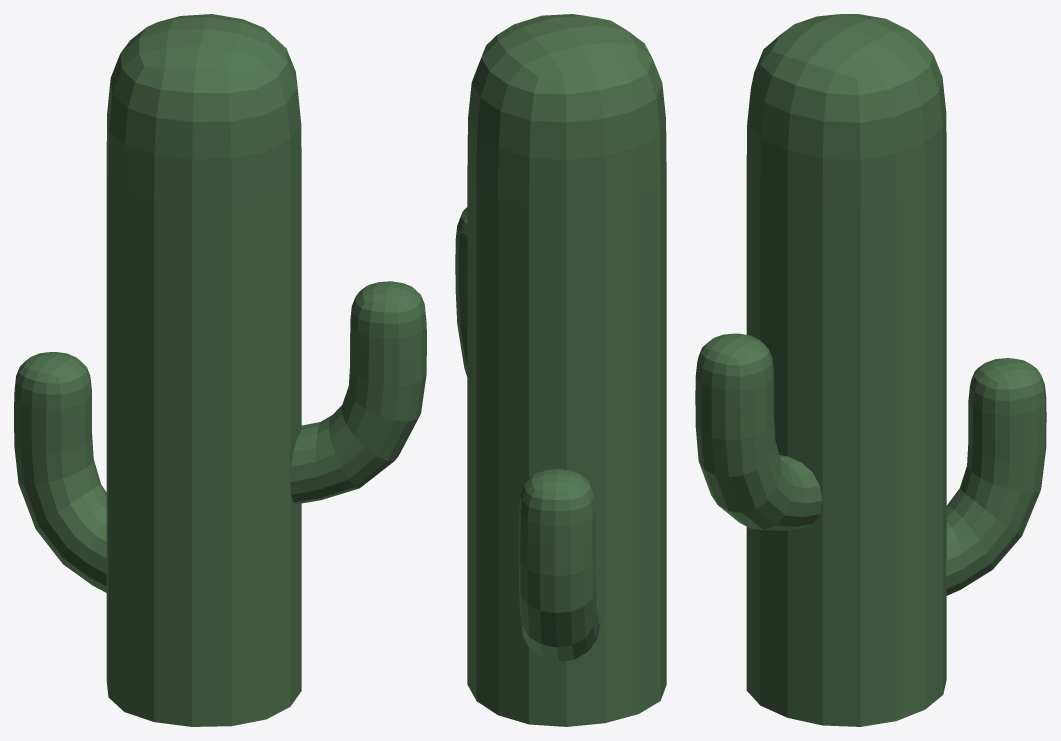
The model's file is Cactus1.fbx.
3 renders of one model, left to right at view 1: azimuth 30°, elevation 25°; view 2: azimuth 150°, elevation 25°; view 3: azimuth 270°, elevation 25°, orthographic.
Visible parts, largest first — view 1: Cactus1; view 2: Cactus1; view 3: Cactus1.
Part boxes in pixels (x1=…): Cactus1: x1=14, y1=14, x2=426, y2=726; Cactus1: x1=455, y1=14, x2=666, y2=726; Cactus1: x1=695, y1=14, x2=1046, y2=726.
Size of the model in its own units: 0.00787 by 0.0185 by 0.00896.
